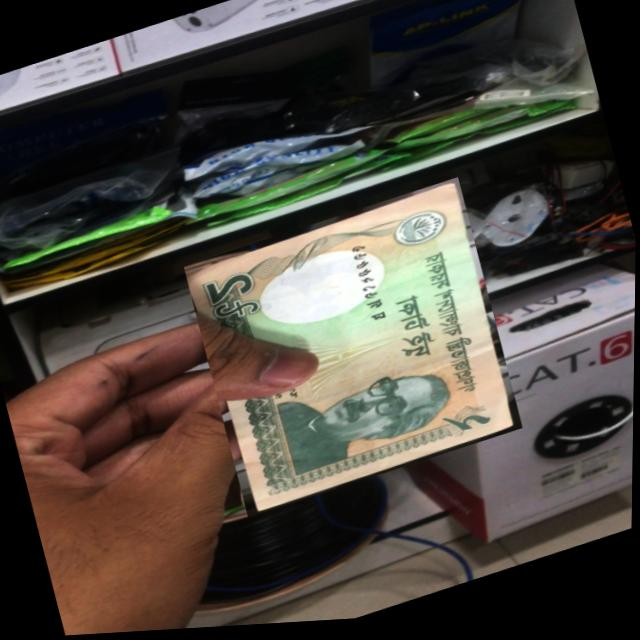Taka: (181, 179, 527, 523)
